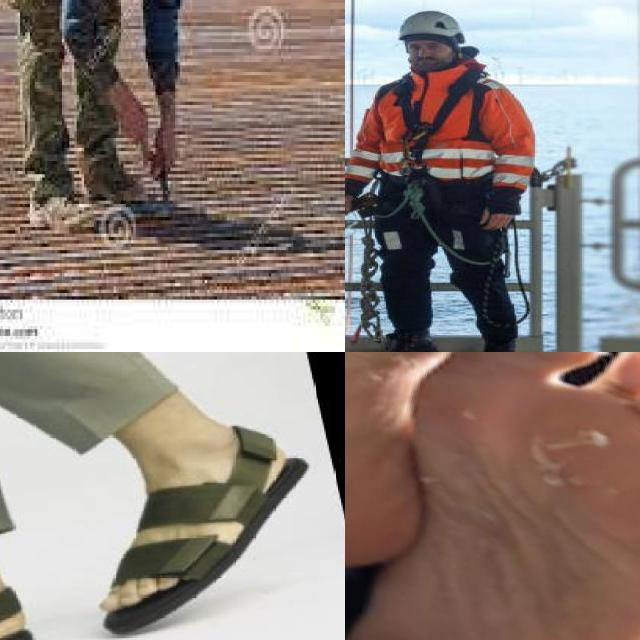Barefoots: (345, 352, 640, 640)
Harness: (364, 72, 505, 267)
Sandals: (97, 400, 314, 640)
boots: (24, 174, 103, 247), (78, 143, 147, 215)
person: (0, 0, 244, 262)
